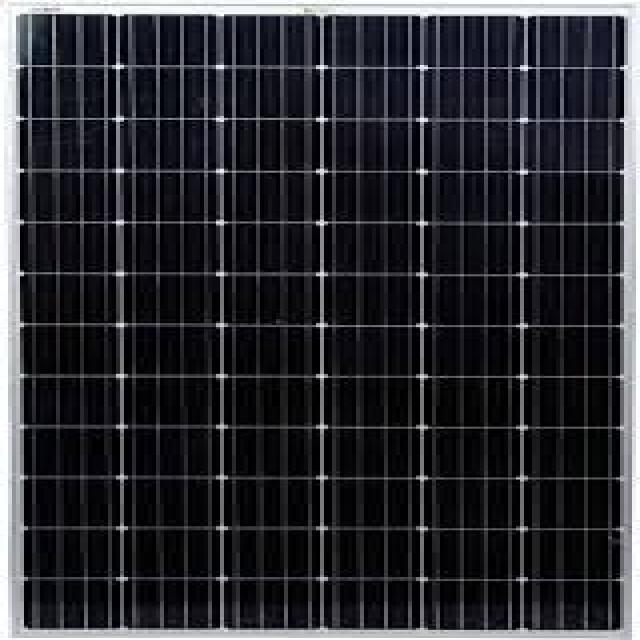Solar: (21, 7, 632, 620)
